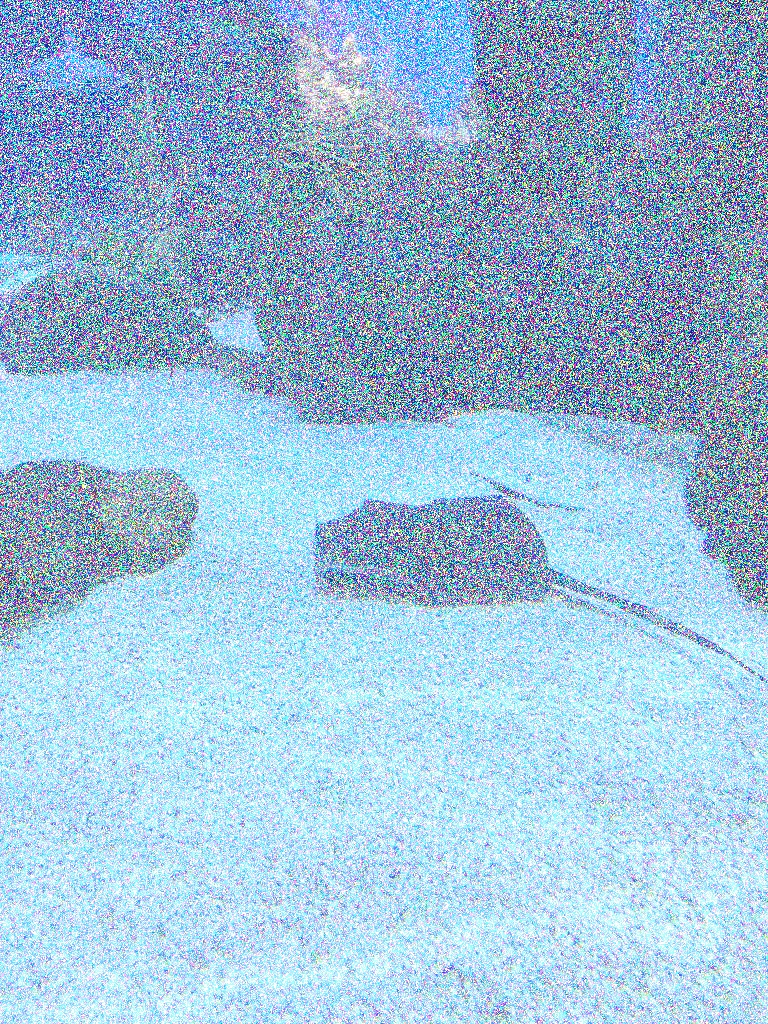fish: (112, 100, 208, 152), (174, 0, 252, 54), (102, 0, 169, 37)
shark: (1, 18, 131, 94)
stingray: (311, 490, 553, 608)
